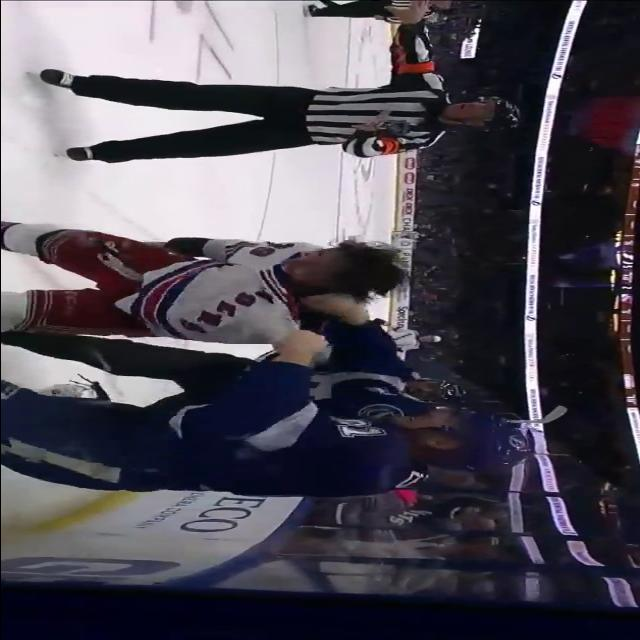NonViolence: (40, 55, 523, 168)
Violence: (0, 235, 534, 498)
